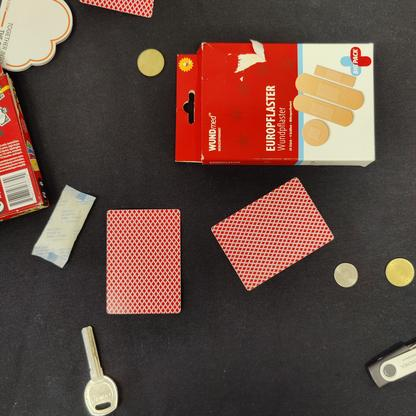card: (208, 173, 336, 299), (97, 204, 190, 318)
